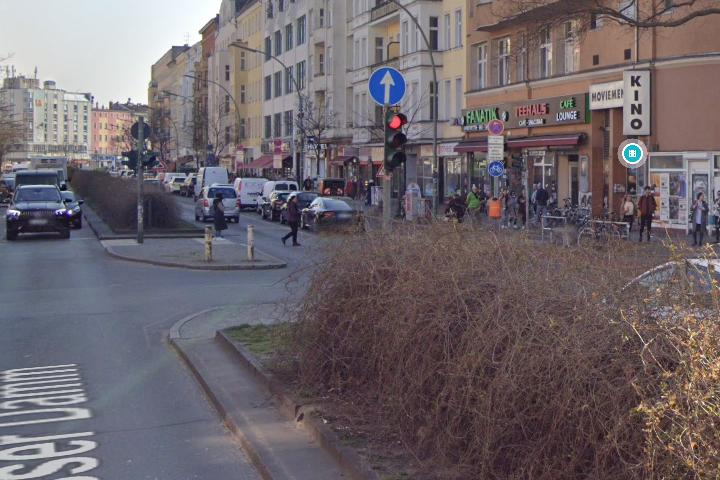google_maps: (622, 142, 643, 164)
traffic_sign: (368, 67, 406, 106), (487, 161, 505, 177), (488, 119, 504, 135)
vehicle: (4, 182, 74, 242), (297, 192, 371, 234), (189, 183, 243, 226)
